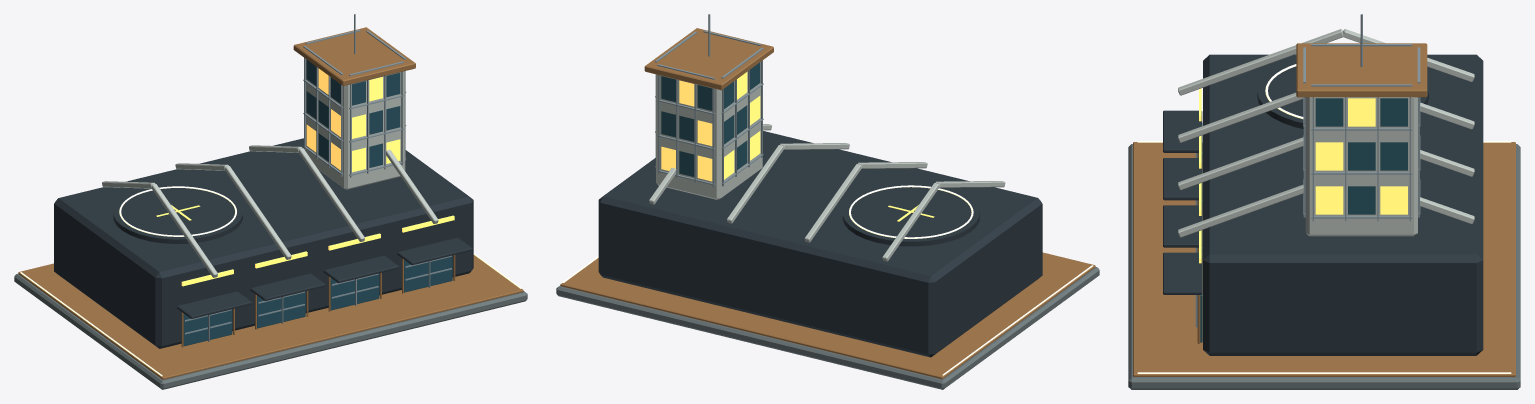
Rendered from mission-terminal.lod0.glb.
3 views of the same model, side by side, from view 1: azimuth 30°, elevation 25°; view 2: azimuth 150°, elevation 25°; view 3: azimuth 270°, elevation 25° (orthographic). The views are drawn at different scales.
Parts seen in each view (by area): view 1: structure; view 2: structure; view 3: structure.
Boxes of the visible parts, left/top/right/bottom form: structure: left=14, top=14, right=527, bottom=389; structure: left=556, top=14, right=1099, bottom=389; structure: left=1128, top=14, right=1520, bottom=389.
Size of the model in its own units: 30 by 19 by 21.
